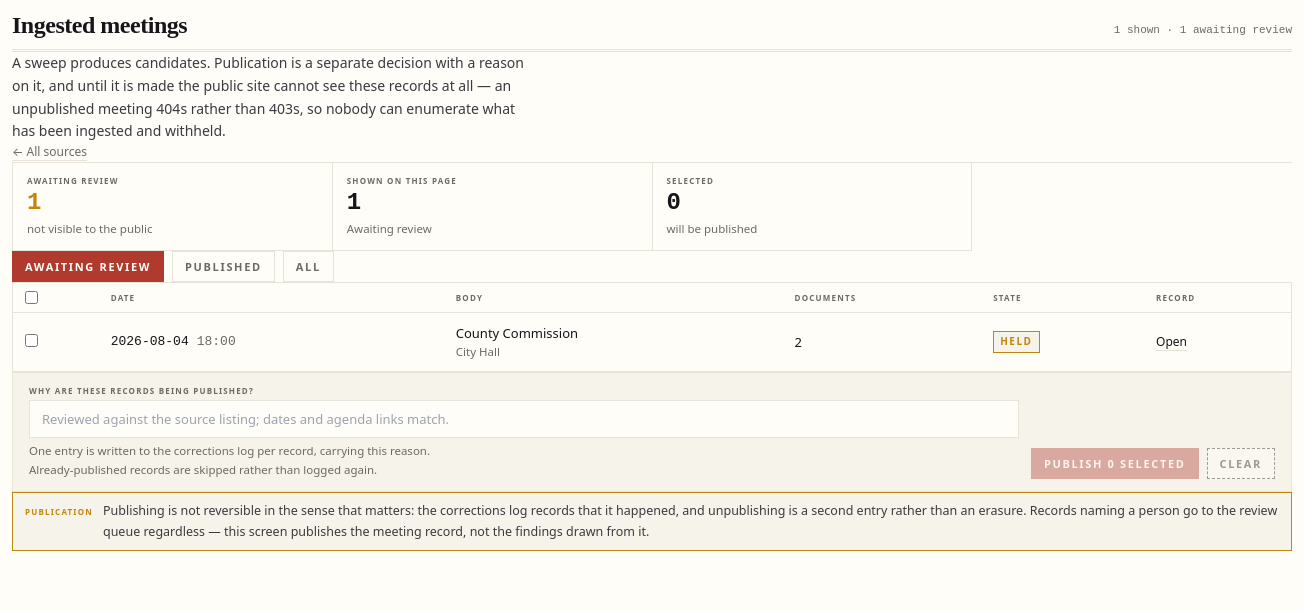
it: the ingested-meetings screen › surfaces a refusal from the server rather than claiming success
This screenshot has width=1304, height=612.
Click the checkbox with test id "select-m1" at (32, 340), box [25,334,38,347]
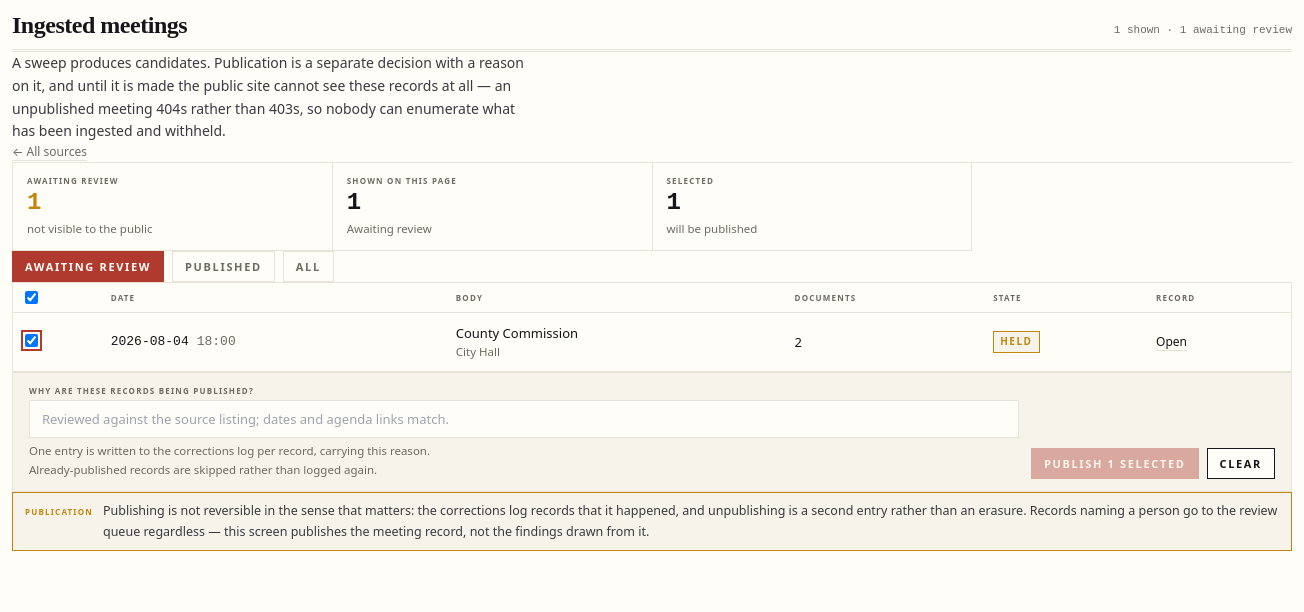
Type "Reviewed." into the field labelled "Why are these records being published?" at (524, 419), box [29,400,1019,438]
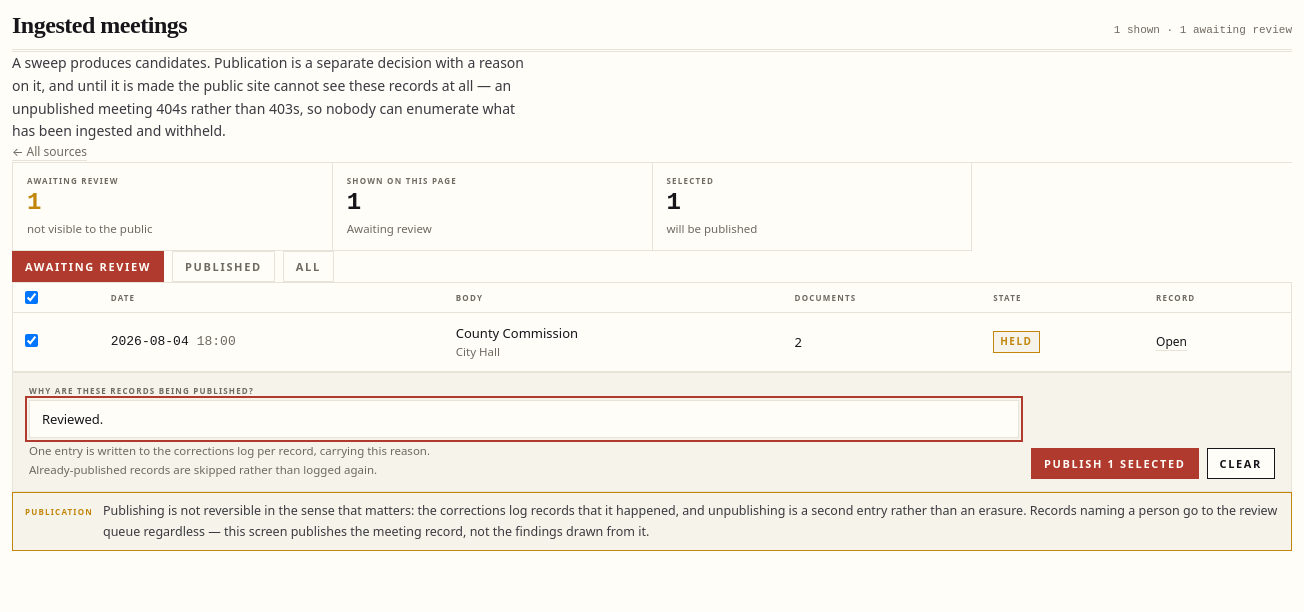
Click the button with test id "publish-selected" at (1115, 464), box [1031,448,1198,479]
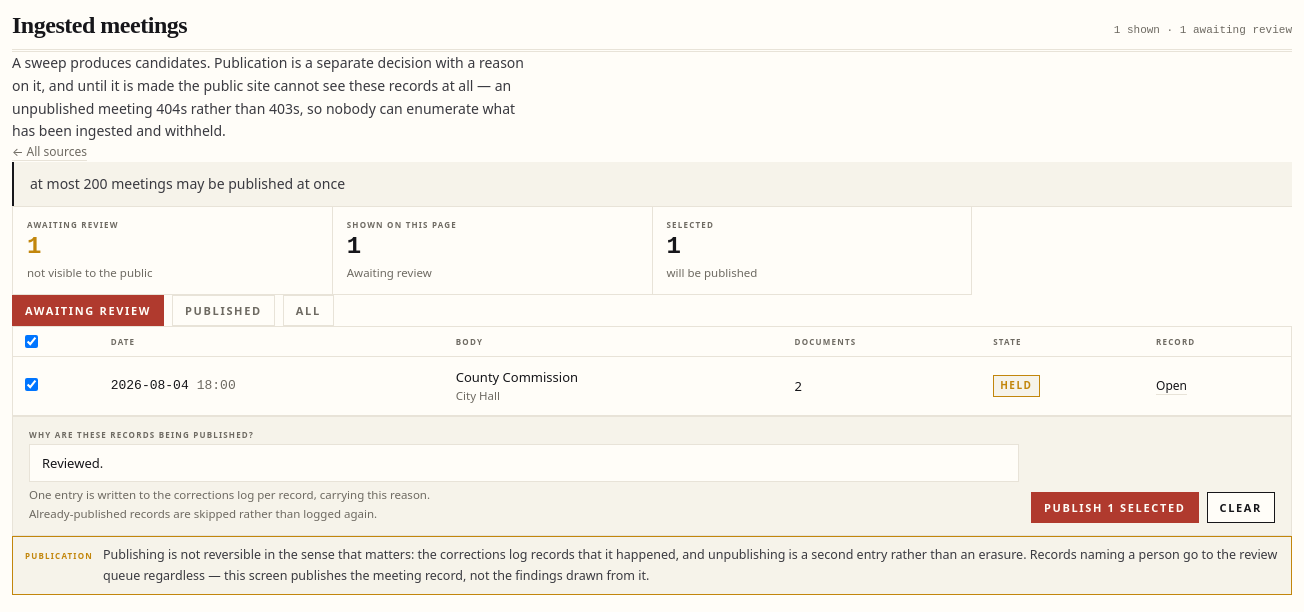
Expected: the message shows "at most 200 meetings", [30,174,345,193]
